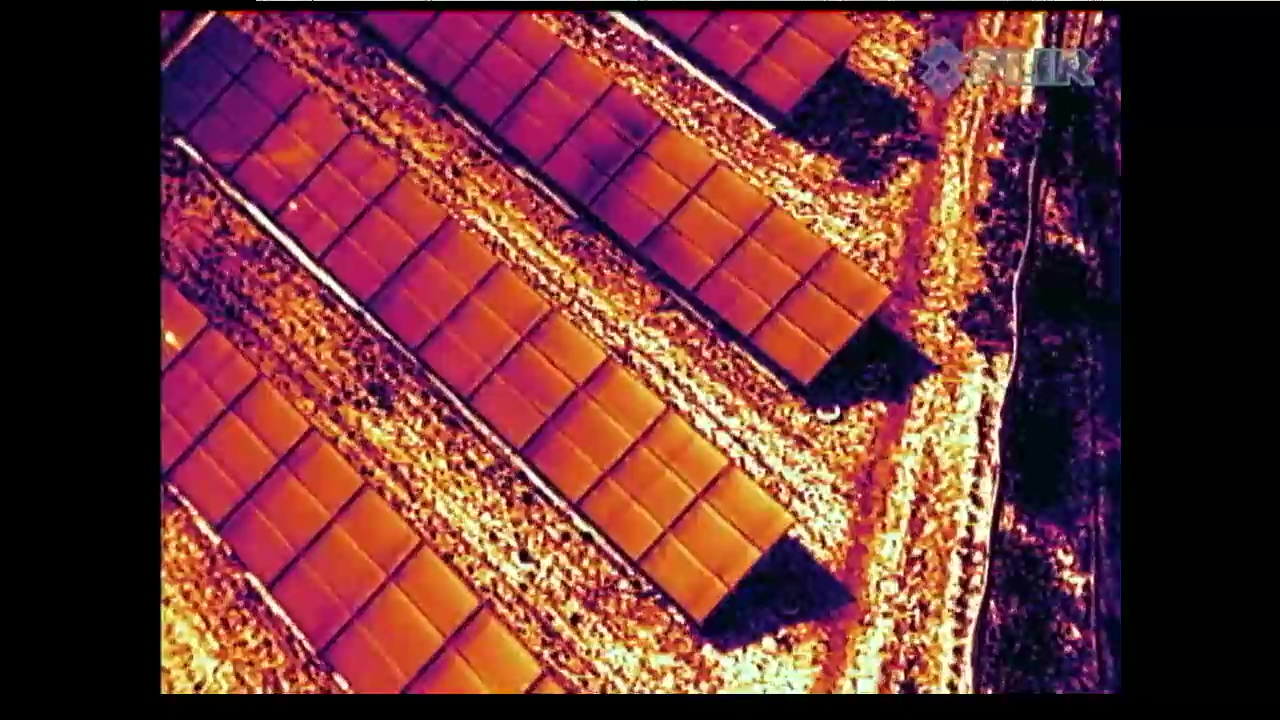hotspot: (266, 131, 403, 254)
